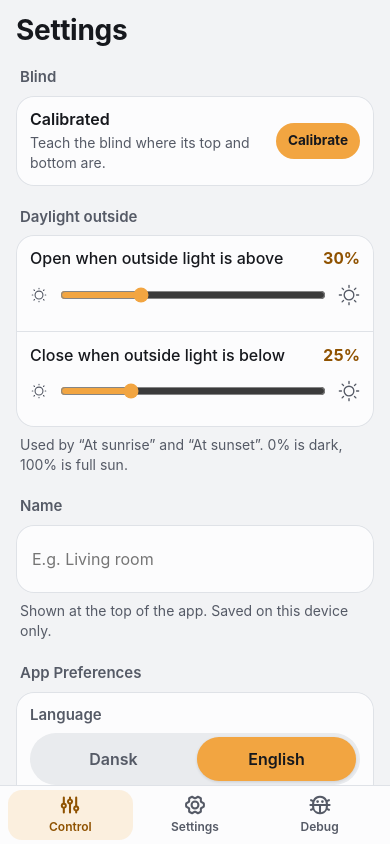
Test: HomePage and SettingsPage › clamps outdoor thresholds so close < open in SettingsPage
Expected: the text "30%" is shown, [323,248,360,271]
Set the slider labelled "Close when outside light is below" to "35" at (156, 391), box [60,369,326,413]
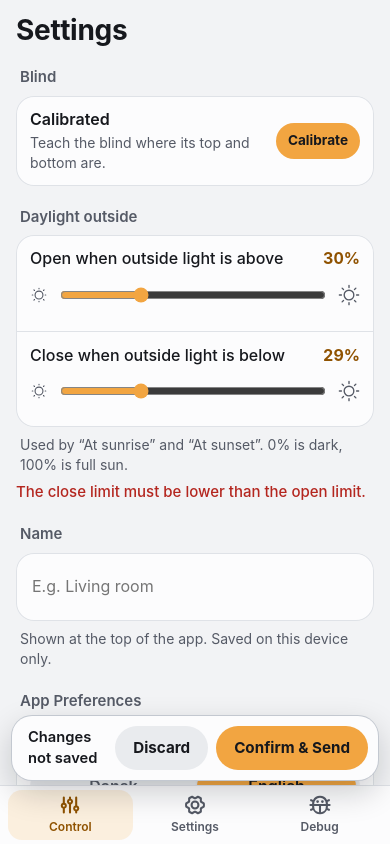
Now the slider labelled "Close when outside light is below" holds "29", box [60,369,326,413]
Now the message shows "must be lower than the open limit", box [16,482,366,501]
